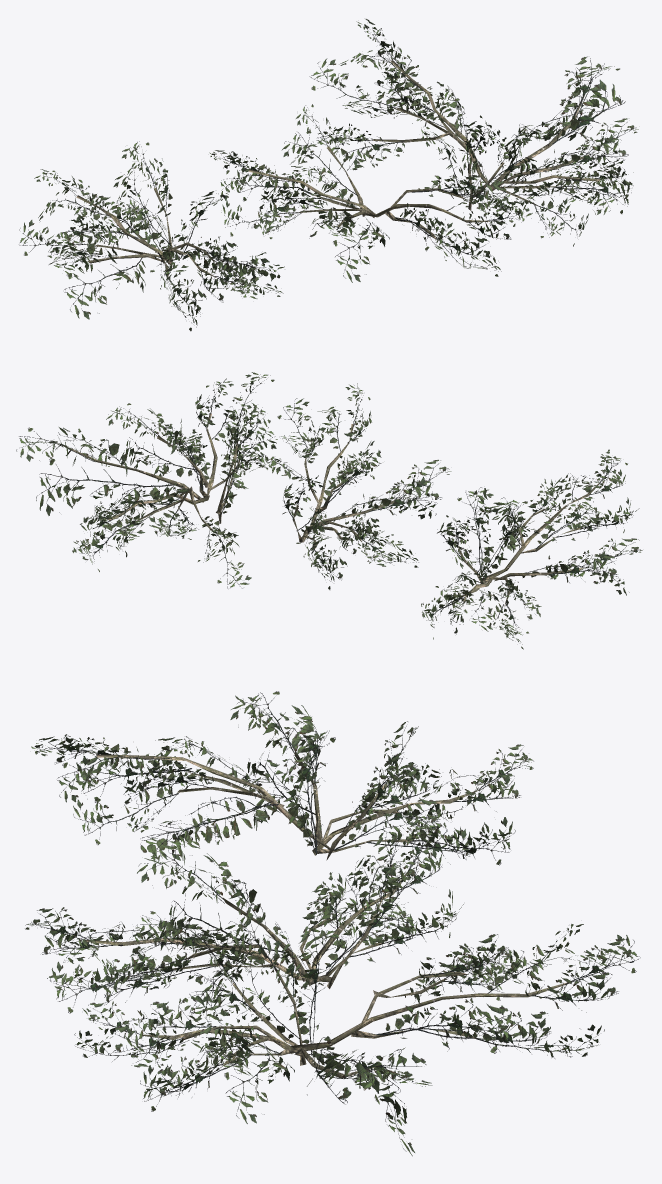
File: SM_Bush_Small_02.fbx
3 views of the same model, one above another, from view 1: azimuth 30°, elevation 25°; view 2: azimuth 150°, elevation 25°; view 3: azimuth 270°, elevation 25° (orthographic). The views are drawn at different scales.
Visible parts, largest first — view 1: SM_Bush_Small_02; view 2: SM_Bush_Small_02; view 3: SM_Bush_Small_02.
Part boxes in pixels (left/top/right/bottom): SM_Bush_Small_02: left=19, top=19, right=638, bottom=331; SM_Bush_Small_02: left=16, top=372, right=642, bottom=649; SM_Bush_Small_02: left=25, top=691, right=640, bottom=1156.
Size of the model in its own units: 554 by 356 by 102.
Materials: 2 (2 with a texture image).
